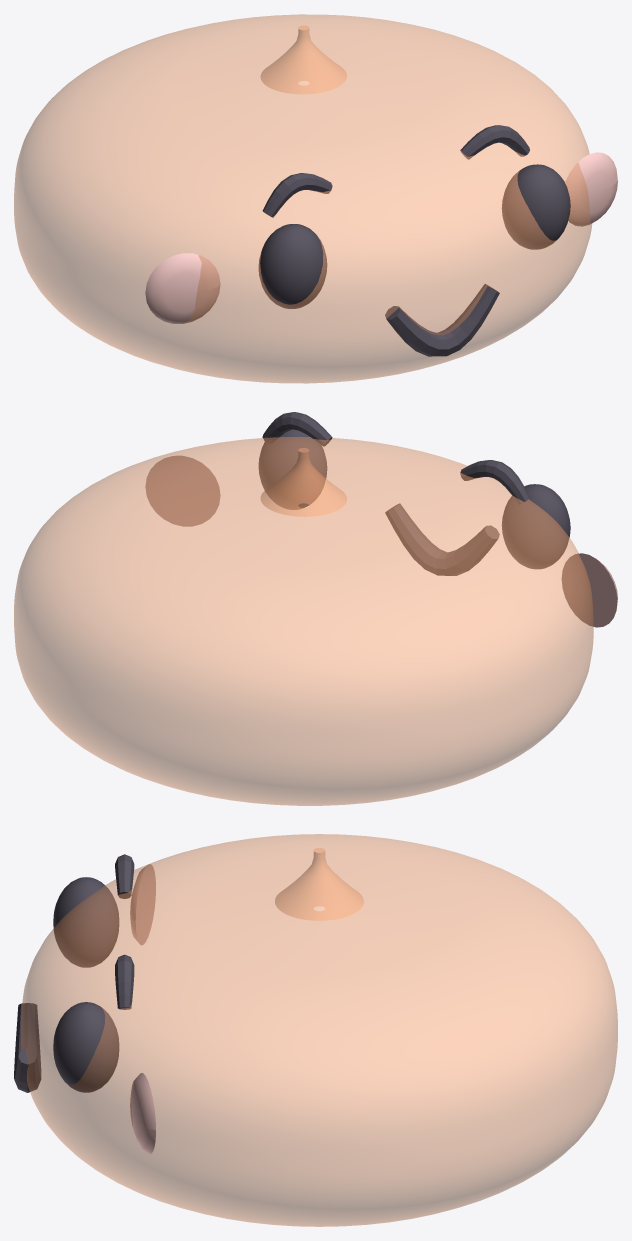
The model's file is jelly-friends-playroom-jelly-ember-squashed-ab2bea9e__27617.glb.
3 views of the same model, one above another, from view 1: azimuth 30°, elevation 25°; view 2: azimuth 150°, elevation 25°; view 3: azimuth 270°, elevation 25° (orthographic). The views are drawn at different scales.
Visible parts, largest first — view 1: body, eye-right, eye-left, blush-left, mouth, blush-right, brow-left, brow-right; view 2: body, eye-left, eye-right, blush-right, mouth, blush-left, brow-left, brow-right; view 3: body, eye-right, eye-left, mouth, blush-right, blush-left, brow-right, brow-left.
Boxes of the visible parts, bbox=[...] form: body: bbox=[14, 14, 591, 383]; eye-right: bbox=[501, 164, 570, 249]; eye-left: bbox=[258, 224, 327, 308]; blush-left: bbox=[145, 253, 220, 323]; mouth: bbox=[385, 284, 499, 356]; blush-right: bbox=[565, 152, 617, 226]; brow-left: bbox=[262, 173, 332, 217]; brow-right: bbox=[460, 125, 529, 159]; body: bbox=[14, 437, 593, 805]; eye-left: bbox=[501, 484, 570, 569]; eye-right: bbox=[258, 429, 327, 509]; blush-right: bbox=[145, 455, 220, 526]; mouth: bbox=[385, 503, 499, 575]; blush-left: bbox=[561, 553, 617, 627]; brow-left: bbox=[460, 460, 529, 504]; brow-right: bbox=[262, 412, 332, 446]; body: bbox=[21, 834, 617, 1226]; eye-right: bbox=[53, 1002, 119, 1092]; eye-left: bbox=[53, 877, 119, 967]; mouth: bbox=[14, 1003, 41, 1092]; blush-right: bbox=[130, 1073, 155, 1153]; blush-left: bbox=[130, 864, 155, 945]; brow-right: bbox=[115, 954, 134, 1009]; brow-left: bbox=[115, 854, 134, 898].
Size of the model in its own units: 0.3578 by 0.1815 by 0.3518.
